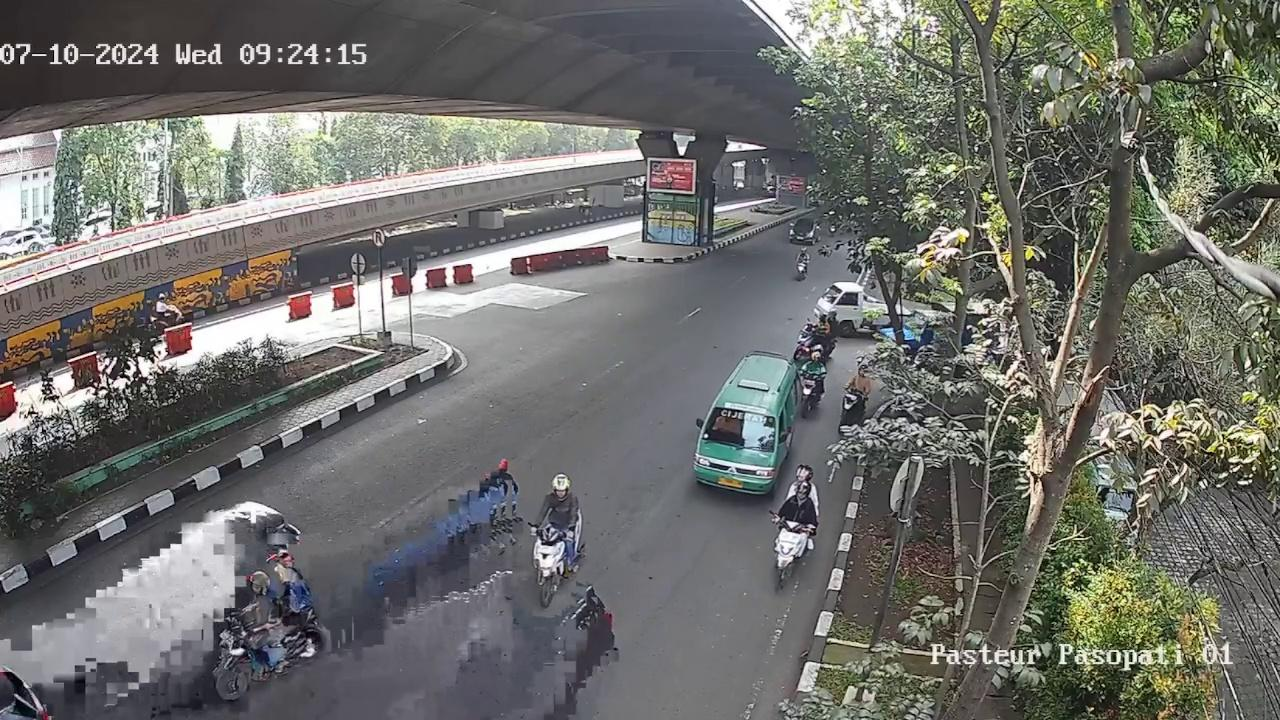tidak-pakai: (716, 414, 743, 439)
windshield: (703, 406, 777, 452)
